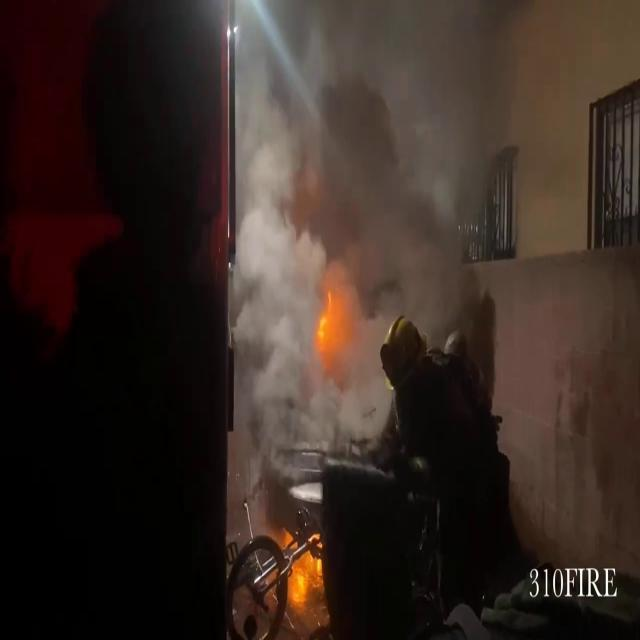Smoke: (229, 0, 598, 420)
